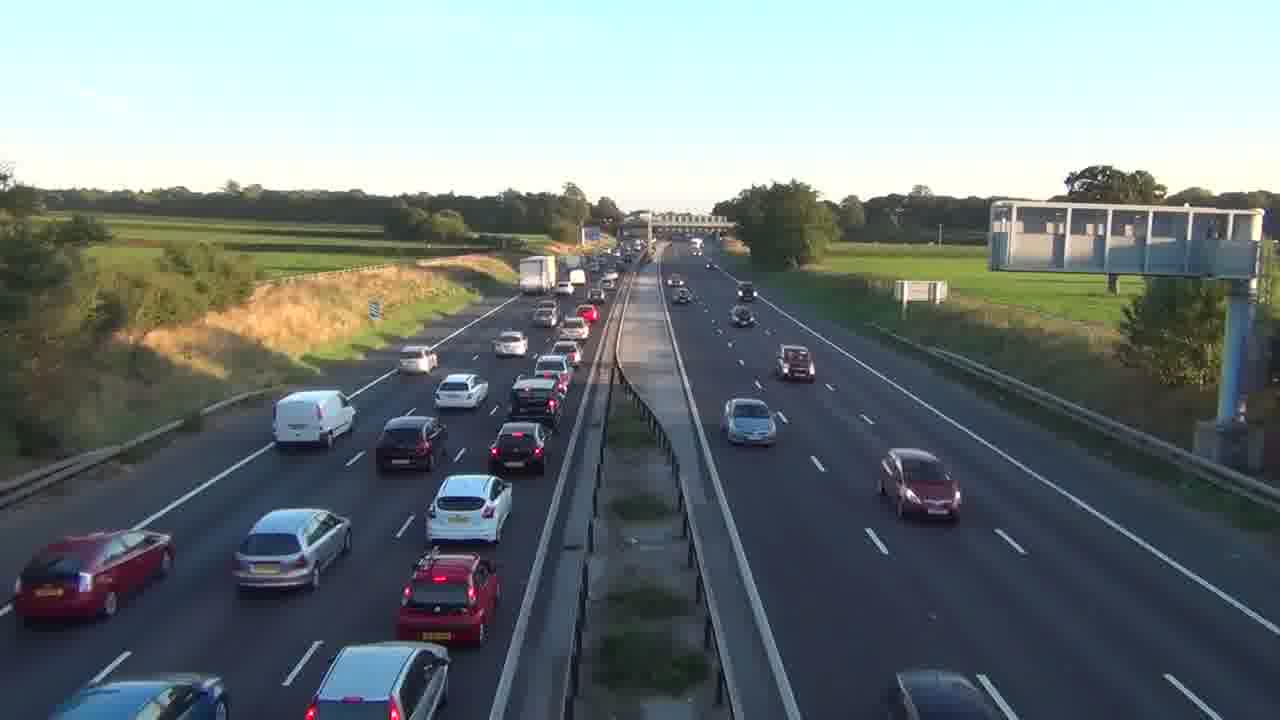car: (49, 649, 230, 719), (303, 641, 451, 719), (229, 507, 352, 593), (883, 667, 1020, 719), (424, 472, 514, 545), (878, 447, 963, 523), (488, 420, 547, 474), (722, 397, 779, 447), (433, 371, 489, 412)
truck: (13, 526, 177, 625), (393, 552, 501, 647), (272, 389, 357, 449), (375, 411, 449, 474), (775, 343, 817, 382)
